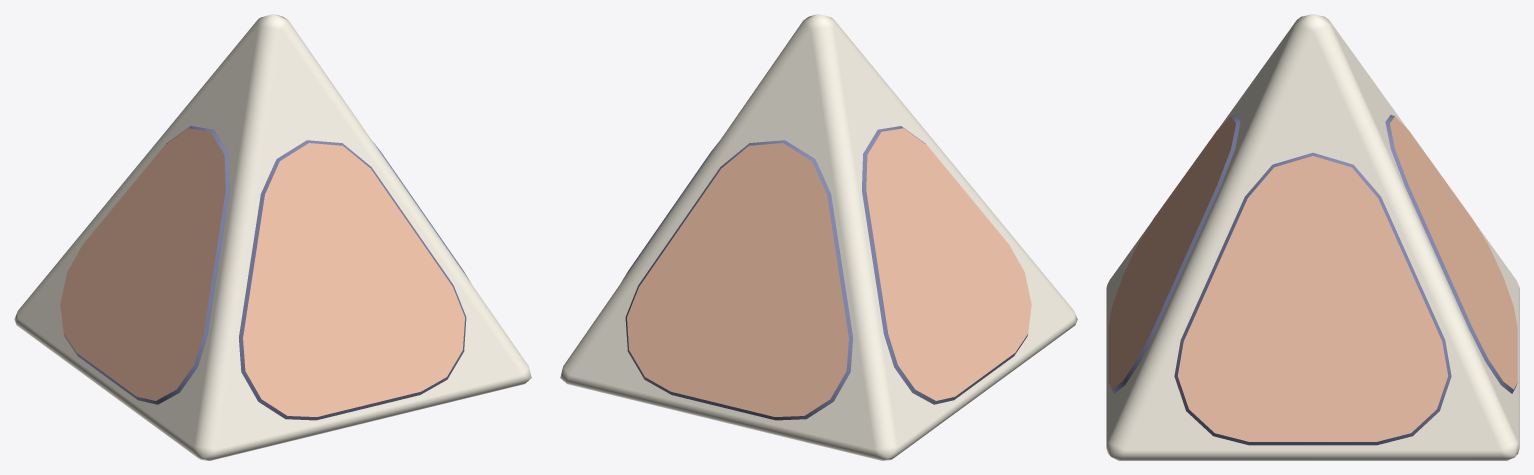
The picture shows the model from 3 angles, left to right: view 1: azimuth 30°, elevation 25°; view 2: azimuth 150°, elevation 25°; view 3: azimuth 270°, elevation 25°; orthographic projection. The views are drawn at different scales.
Parts seen in each view (by area): view 1: R4B_Pyramid; view 2: R4B_Pyramid; view 3: R4B_Pyramid.
Boxes of the visible parts, bbox=[...] form: R4B_Pyramid: bbox=[14, 14, 531, 460]; R4B_Pyramid: bbox=[560, 14, 1077, 460]; R4B_Pyramid: bbox=[1106, 14, 1519, 460].
Bounding box in the file's own units: 0.4918 × 0.4807 × 0.4918.
